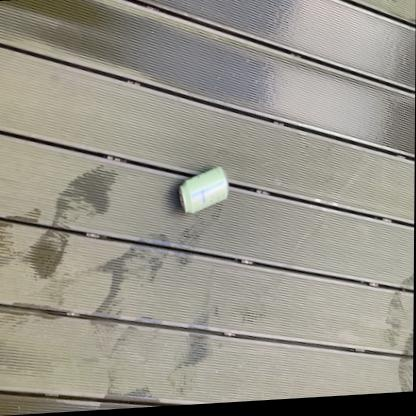trash: (179, 167, 227, 212)
